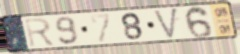6: (182, 5, 215, 39)
7: (89, 13, 112, 44)
8: (121, 12, 146, 41)
9: (54, 15, 81, 46)
R: (23, 17, 57, 49)
V: (152, 6, 180, 41)
